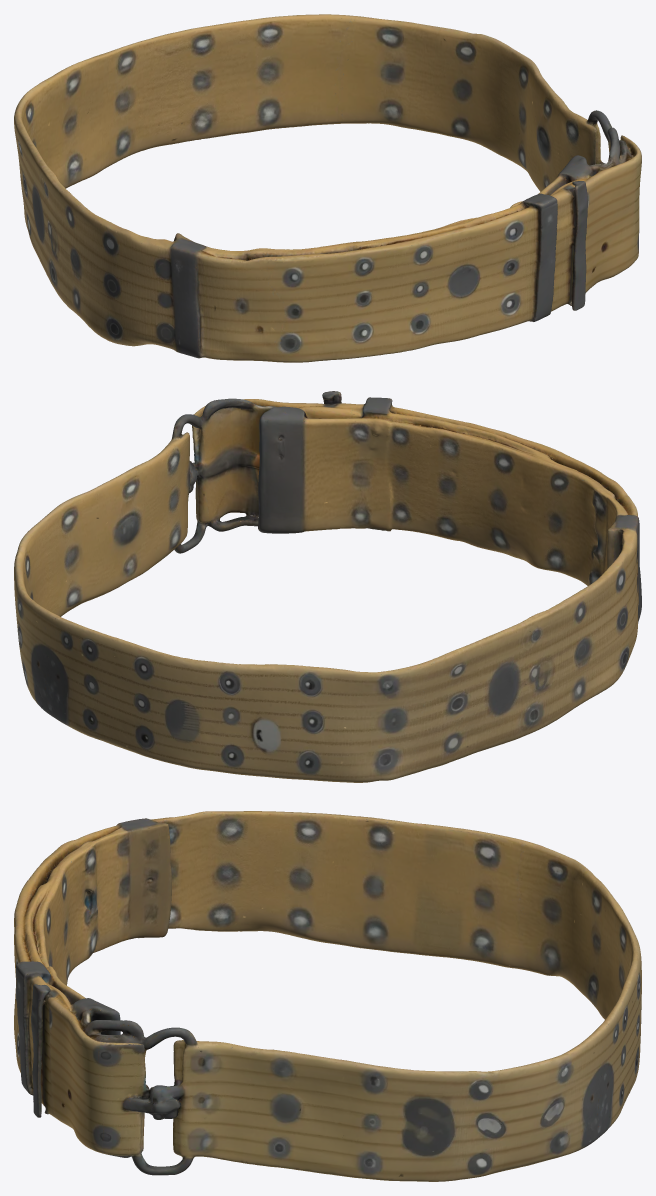
Rendered from Web Pistol Belt.glb.
3 renders of one model, top to bottom at view 1: azimuth 30°, elevation 25°; view 2: azimuth 150°, elevation 25°; view 3: azimuth 270°, elevation 25°, orthographic. The views are drawn at different scales.
Size of the model in its own units: 1.92 by 0.5324 by 2.
1 material, 1 textured.
